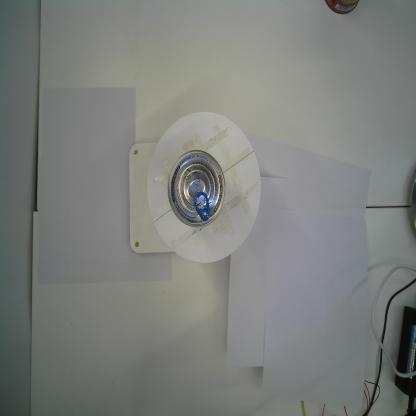Canned Food: (167, 149, 226, 228)
